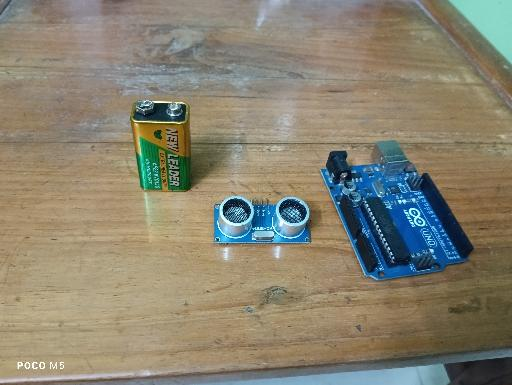Arduino: (320, 140, 474, 282)
Battery: (130, 99, 192, 192)
sensor: (213, 195, 311, 246)
